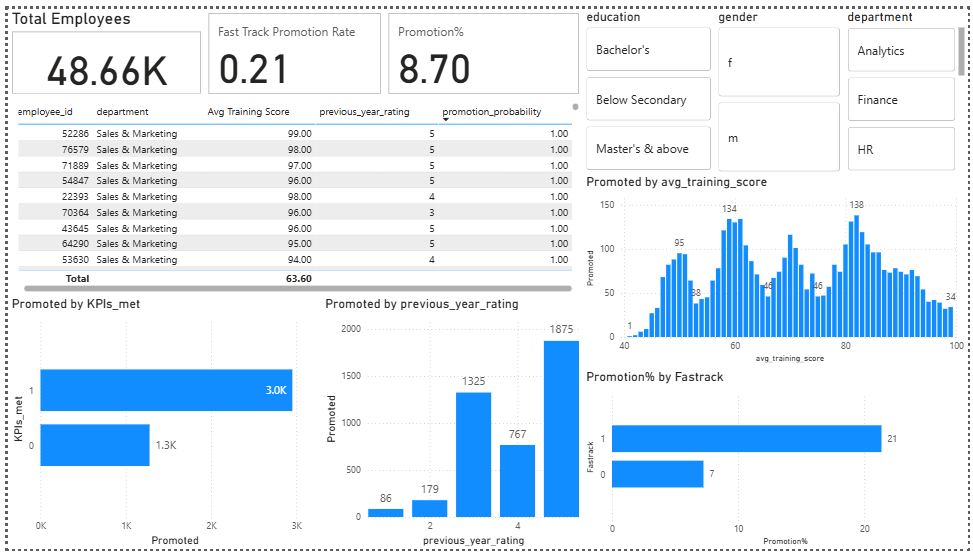

Layout of this report page (visuals, bound fields, positions):
{"tool":"powerbi","page":{"name":"Page 1","canvas":[1280,720],"ordinal":0},"visuals":[{"type":"cardVisual","fields":{"Data":["train_hr (2).Fast Track Promotion Rate"]},"box":[262,0,240,118],"z":0},{"type":"cardVisual","title":"Total Employees","fields":{"Data":["Count(train_hr (2).employee_id)"]},"box":[0,0,262,118],"z":1000},{"type":"cardVisual","fields":{"Data":["train_hr (2).Promotion%"]},"box":[502,0,264,118],"z":3000},{"type":"barChart","fields":{"Category":["train_hr (2).KPIs_met >80%"],"Y":["train_hr (2).Promoted"]},"box":[0,382,414,338],"z":6000},{"type":"clusteredColumnChart","fields":{"Category":["train_hr (2).avg_training_score"],"Y":["train_hr (2).Promoted"]},"box":[766,220,514,256],"z":7000},{"type":"clusteredColumnChart","fields":{"Category":["train_hr (2).previous_year_rating"],"Y":["train_hr (2).Promoted"]},"box":[418,382,348,338],"z":8000},{"type":"barChart","fields":{"Y":["train_hr (2).Promotion%"],"Category":["train_hr (2).Fastrack"]},"box":[766,492,514,228],"z":9000},{"type":"tableEx","fields":{"Values":["Sheet1.employee_id","train_hr (2).department","train_hr (2).Avg Training Score","train_hr (2).previous_year_rating","Sheet1.promotion_probability"]},"box":[8,120,758,262],"z":10000},{"type":"advancedSlicerVisual","fields":{"Values":["train_hr (2).department"]},"box":[1114,0,166,222],"z":11000},{"type":"advancedSlicerVisual","fields":{"Values":["train_hr (2).gender"]},"box":[942,0,172,222],"z":12000},{"type":"advancedSlicerVisual","fields":{"Values":["train_hr (2).education"]},"box":[766,0,176,220],"z":13000}]}

Visuals, with their boxes in screenshot pixels (x1, y1, x2, y2), scaled from the page's 1280x720 canvas onto the 973x553 screenshot:
cardVisual - train_hr (2).Fast Track Promotion Rate: {"left": 199, "top": 0, "right": 382, "bottom": 91}
"Total Employees" cardVisual: {"left": 0, "top": 0, "right": 199, "bottom": 91}
cardVisual - train_hr (2).Promotion%: {"left": 382, "top": 0, "right": 582, "bottom": 91}
barChart - train_hr (2).KPIs_met >80% x train_hr (2).Promoted: {"left": 0, "top": 293, "right": 315, "bottom": 552}
clusteredColumnChart - train_hr (2).avg_training_score x train_hr (2).Promoted: {"left": 582, "top": 169, "right": 972, "bottom": 366}
clusteredColumnChart - train_hr (2).previous_year_rating x train_hr (2).Promoted: {"left": 318, "top": 293, "right": 582, "bottom": 552}
barChart - train_hr (2).Promotion% x train_hr (2).Fastrack: {"left": 582, "top": 378, "right": 972, "bottom": 552}
tableEx - Sheet1.employee_id x train_hr (2).department: {"left": 6, "top": 92, "right": 582, "bottom": 293}
advancedSlicerVisual - train_hr (2).department: {"left": 847, "top": 0, "right": 972, "bottom": 171}
advancedSlicerVisual - train_hr (2).gender: {"left": 716, "top": 0, "right": 847, "bottom": 171}
advancedSlicerVisual - train_hr (2).education: {"left": 582, "top": 0, "right": 716, "bottom": 169}
